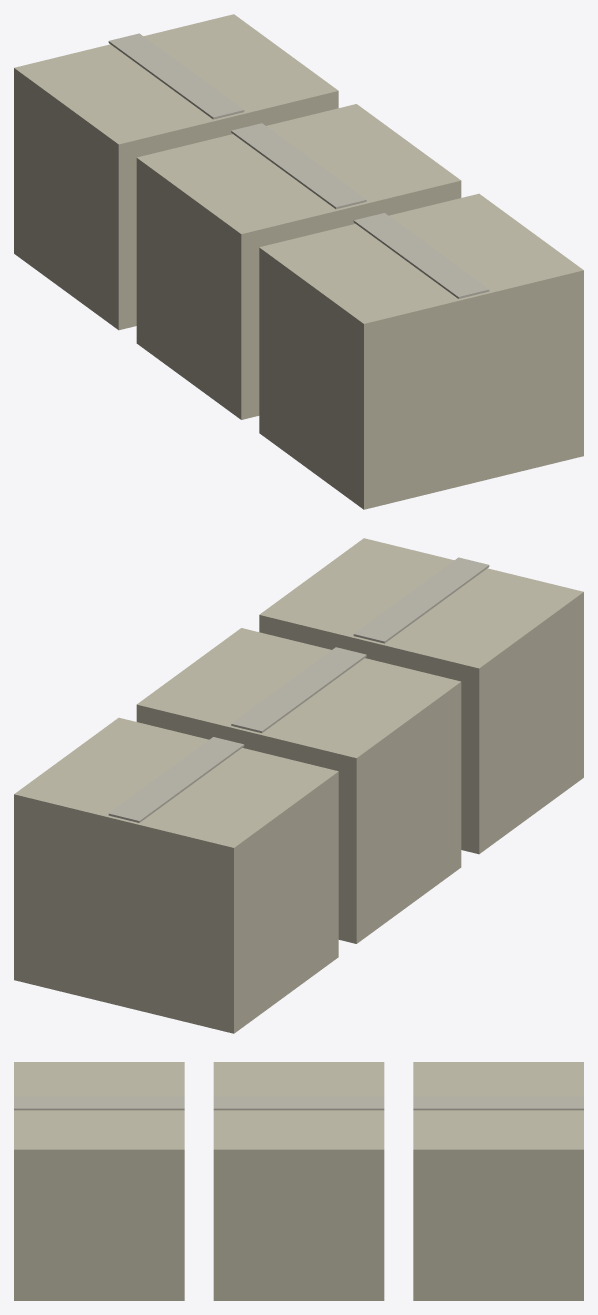
The model's file is storage-boxes.glb.
3 renders of one model, top to bottom at view 1: azimuth 30°, elevation 25°; view 2: azimuth 150°, elevation 25°; view 3: azimuth 270°, elevation 25°, orthographic. The views are drawn at different scales.
Visible parts, largest first — view 1: Moving box, Moving box.001, Moving box.002, Packing tape.002, Packing tape, Packing tape.001; view 2: Moving box.002, Moving box.001, Moving box, Packing tape, Packing tape.002, Packing tape.001; view 3: Moving box.001, Moving box, Moving box.002, Packing tape.001, Packing tape, Packing tape.002.
Part boxes in pixels (bbox=[...]): Moving box: bbox=[259, 193, 583, 509]; Moving box.001: bbox=[136, 104, 461, 419]; Moving box.002: bbox=[14, 14, 338, 330]; Packing tape.002: bbox=[108, 33, 244, 119]; Packing tape: bbox=[353, 213, 489, 298]; Packing tape.001: bbox=[231, 123, 366, 209]; Moving box.002: bbox=[14, 717, 338, 1033]; Moving box.001: bbox=[136, 628, 461, 943]; Moving box: bbox=[259, 538, 583, 854]; Packing tape: bbox=[353, 557, 489, 643]; Packing tape.002: bbox=[108, 737, 244, 822]; Packing tape.001: bbox=[231, 647, 366, 733]; Moving box.001: bbox=[213, 1062, 384, 1300]; Moving box: bbox=[14, 1062, 184, 1300]; Moving box.002: bbox=[413, 1062, 583, 1300]; Packing tape.001: bbox=[213, 1096, 384, 1110]; Packing tape: bbox=[14, 1096, 184, 1110]; Packing tape.002: bbox=[413, 1096, 583, 1110].
Bounding box in the file's own units: 0.57 × 0.4695 × 1.57.
